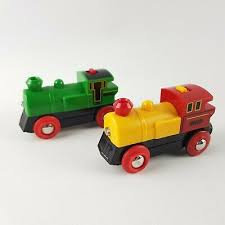brio: (94, 80, 218, 176)
